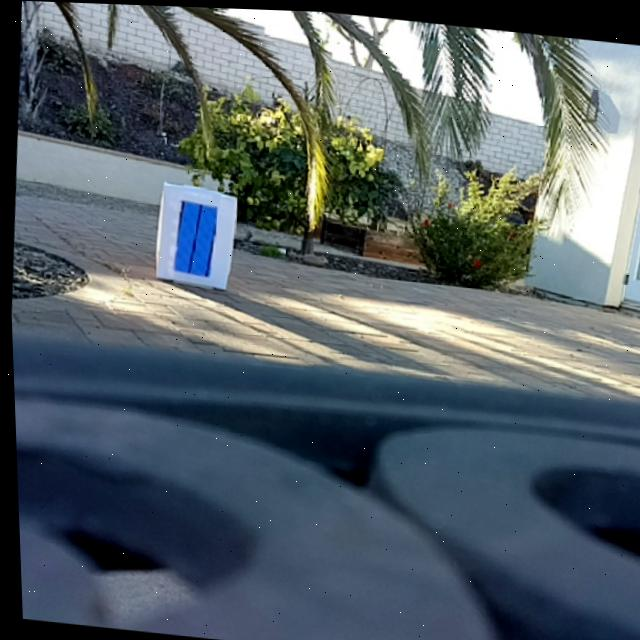led: (170, 199, 217, 275)
